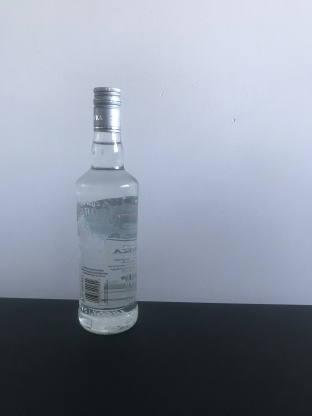nakretka: (91, 84, 122, 134)
